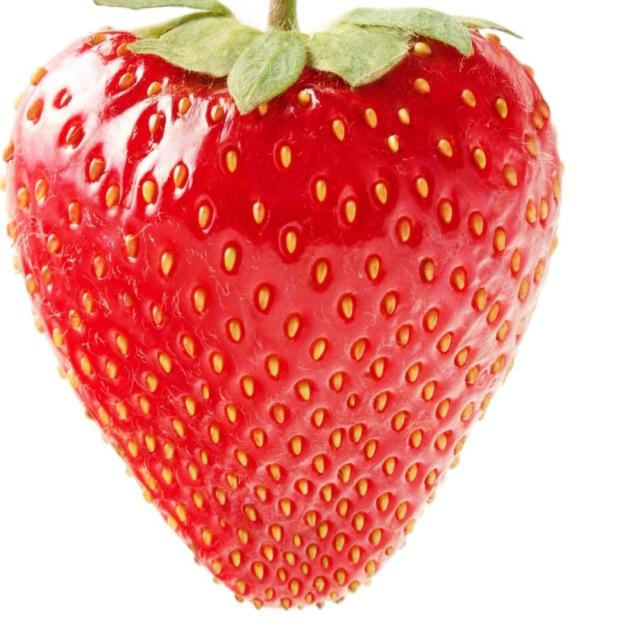strawberry: (0, 0, 566, 640)
